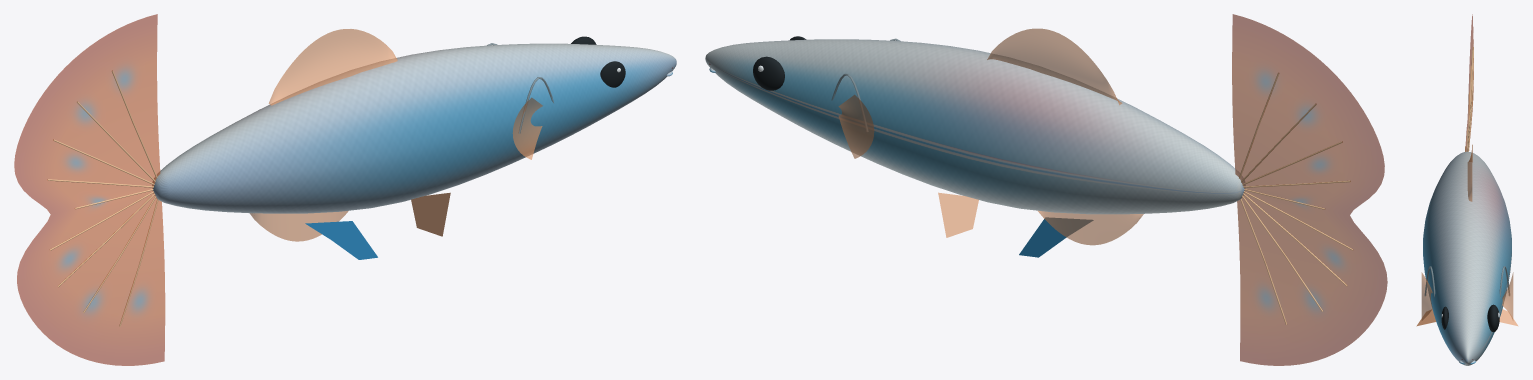
Rendered from Guppy_Hero_v1.fbx.
3 renders of one model, left to right at view 1: azimuth 30°, elevation 25°; view 2: azimuth 150°, elevation 25°; view 3: azimuth 270°, elevation 25°, orthographic. The views are drawn at different scales.
Parts seen in each view (by area): view 1: Guppy Hero Body, Guppy fan tail.001, Guppy dorsal fin.001, Guppy anal fin.001, Guppy gonopodium, Guppy pelvic fin, Guppy pectoral fin.002; view 2: Guppy Hero Body, Guppy fan tail.001, Guppy dorsal fin.001, Guppy anal fin.001, Guppy pectoral fin.003, Guppy gonopodium, Guppy pelvic fin.001, Guppy Hero Eye.001; view 3: Guppy Hero Body, Guppy fan tail.001, Guppy pectoral fin.002, Guppy pectoral fin.003, Guppy Hero Eye.001, Guppy dorsal fin.001, Guppy pelvic fin, Guppy caudal ray.022, Guppy pelvic fin.001, Guppy Hero Eye, Guppy caudal ray.021, Guppy gill seam.002 (+2 smaller).
Part boxes in pixels (left/top/right/bottom): Guppy Hero Body: left=152, top=43, right=676, bottom=213; Guppy fan tail.001: left=14, top=14, right=165, bottom=365; Guppy dorsal fin.001: left=269, top=29, right=397, bottom=105; Guppy anal fin.001: left=250, top=211, right=348, bottom=241; Guppy gonopodium: left=305, top=221, right=377, bottom=259; Guppy pelvic fin: left=411, top=192, right=450, bottom=236; Guppy pectoral fin.002: left=512, top=97, right=542, bottom=159; Guppy Hero Body: left=705, top=39, right=1245, bottom=214; Guppy fan tail.001: left=1232, top=14, right=1387, bottom=365; Guppy dorsal fin.001: left=987, top=28, right=1121, bottom=104; Guppy anal fin.001: left=1038, top=210, right=1143, bottom=245; Guppy pectoral fin.003: left=838, top=95, right=874, bottom=158; Guppy gonopodium: left=1019, top=217, right=1093, bottom=257; Guppy pelvic fin.001: left=938, top=192, right=978, bottom=237; Guppy Hero Eye.001: left=753, top=56, right=784, bottom=90; Guppy Hero Body: left=1423, top=151, right=1511, bottom=365; Guppy fan tail.001: left=1465, top=14, right=1473, bottom=151; Guppy pectoral fin.002: left=1421, top=272, right=1432, bottom=320; Guppy pectoral fin.003: left=1502, top=272, right=1513, bottom=320; Guppy Hero Eye.001: left=1487, top=304, right=1499, bottom=332; Guppy dorsal fin.001: left=1467, top=144, right=1472, bottom=201; Guppy pelvic fin: left=1416, top=309, right=1436, bottom=326; Guppy caudal ray.022: left=1468, top=47, right=1473, bottom=151; Guppy pelvic fin.001: left=1499, top=309, right=1517, bottom=325; Guppy Hero Eye: left=1441, top=306, right=1448, bottom=329; Guppy caudal ray.021: left=1467, top=50, right=1472, bottom=151; Guppy gill seam.002: left=1424, top=266, right=1435, bottom=297.
Bounding box in the file's own units: 1.53 × 0.7553 × 0.26.
Materials: 9 (2 with a texture image).
